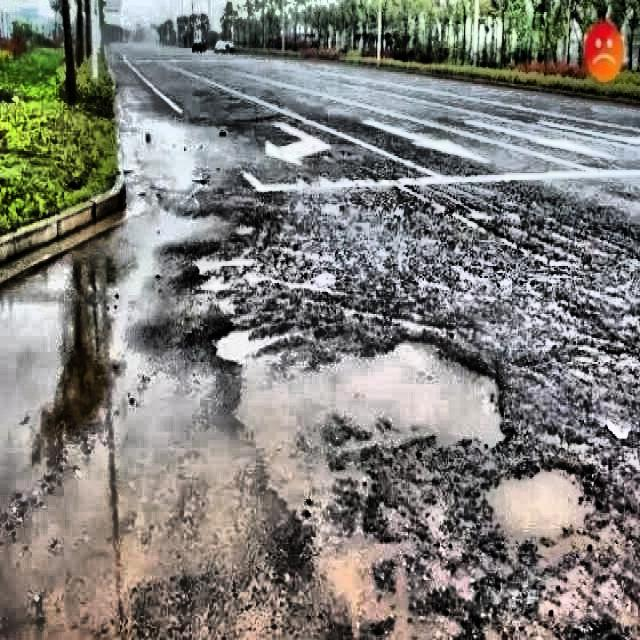buraco: (206, 322, 594, 580)
